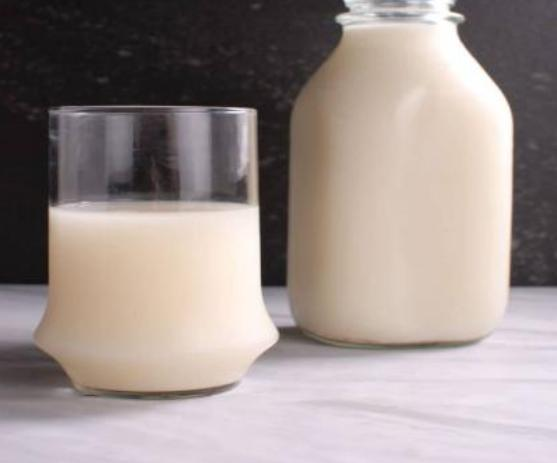produk_susu: (291, 0, 513, 342), (51, 108, 263, 380)
